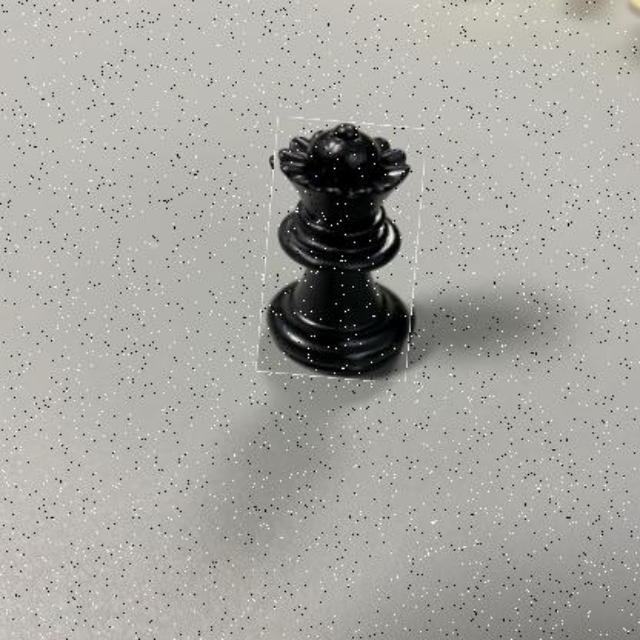black-queen: (261, 121, 421, 381)
